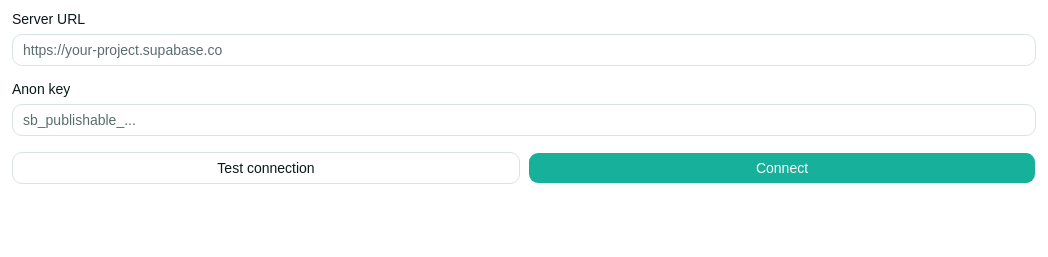
Test: CloudConnectForm › shows validation errors on empty submit
This screenshot has width=1048, height=257.
Click the button "Connect". click: (782, 168)
box: [528, 152, 1036, 184]
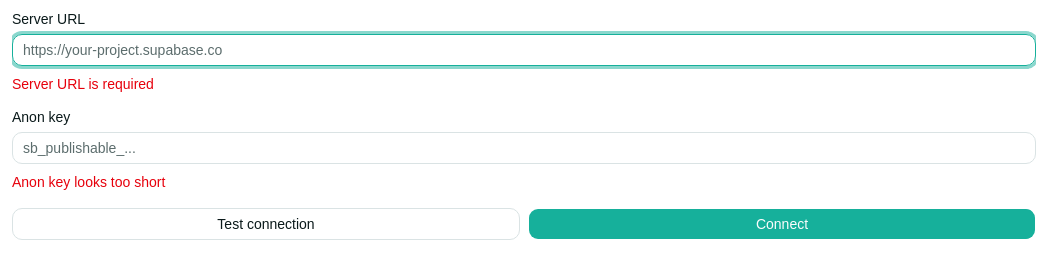
Check: the text "Server URL is required" is shown, box [12, 76, 154, 92]
